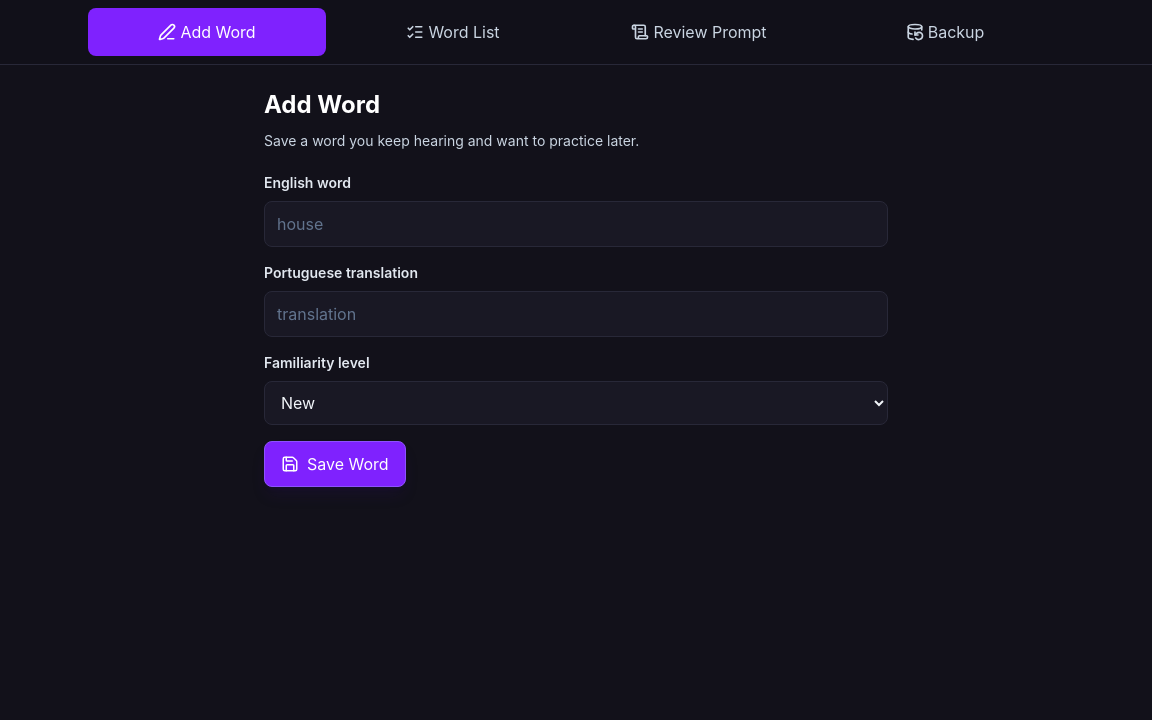
it: WordCatcher app › marks a word as learned and moves it back to review
Type "shadow" into the field labelled "English word" at (576, 224), box [264,201,888,247]
Type "dark shape" into the field labelled "Portuguese translation" at (576, 314), box [264,291,888,337]
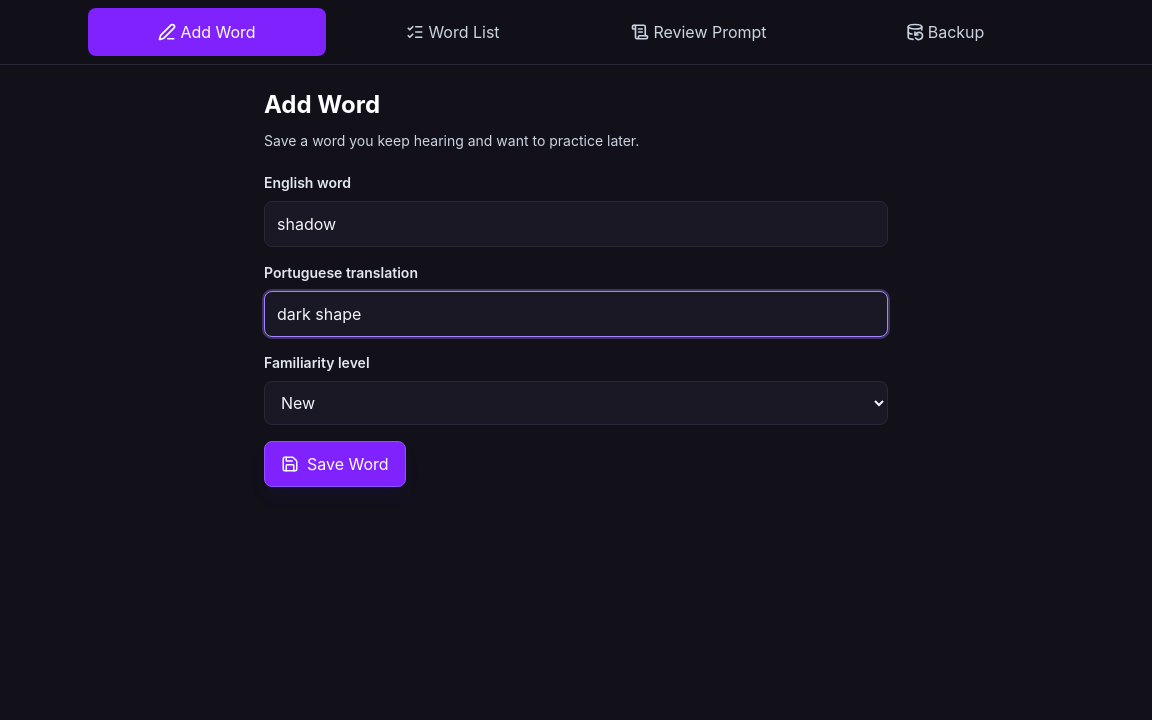
Select "New" in the dropdown labelled "Familiarity level" at (576, 403), box [264,381,888,425]
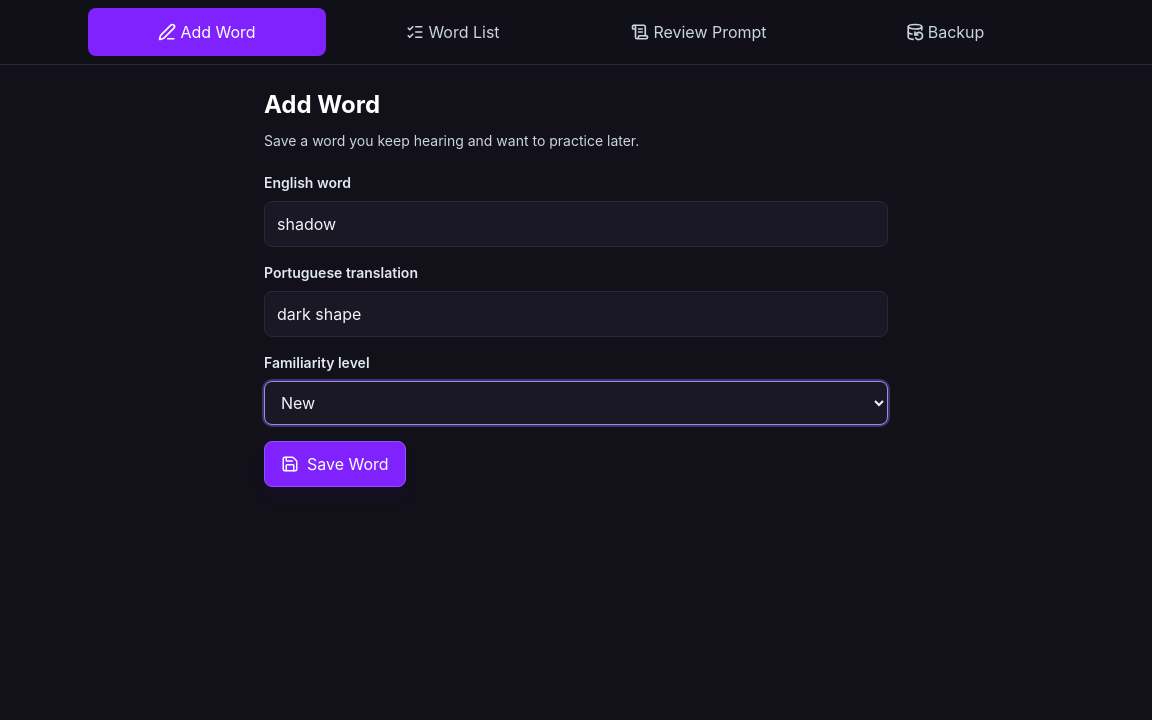
Click the button "Save Word" at (335, 464), box [264,441,406,487]
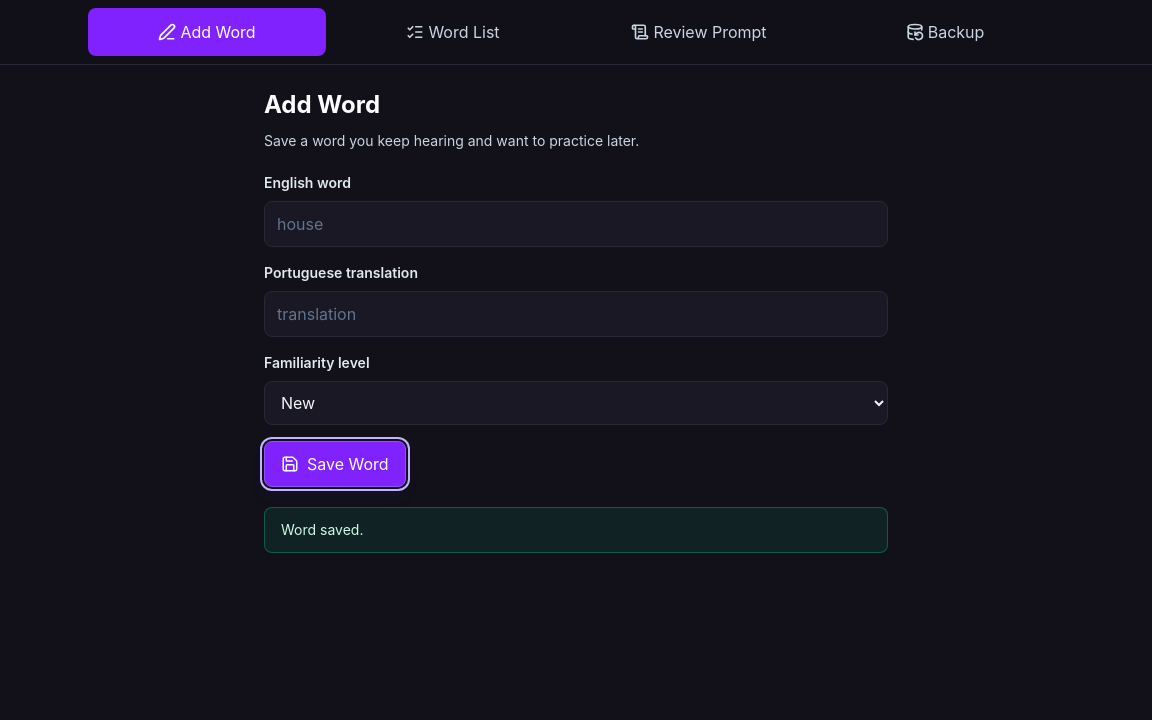
Click the button "Word List" at (453, 32), box [334,8,572,56]
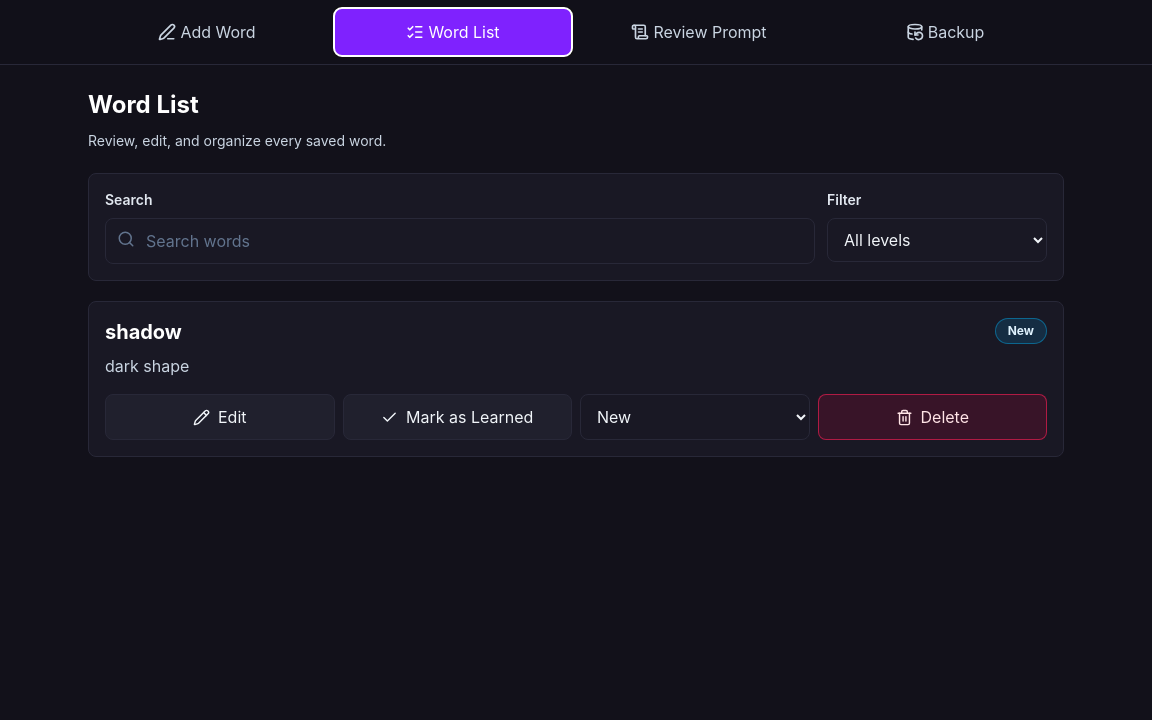
Click the button "Mark as Learned" at (457, 417), box [342,394,572,440]
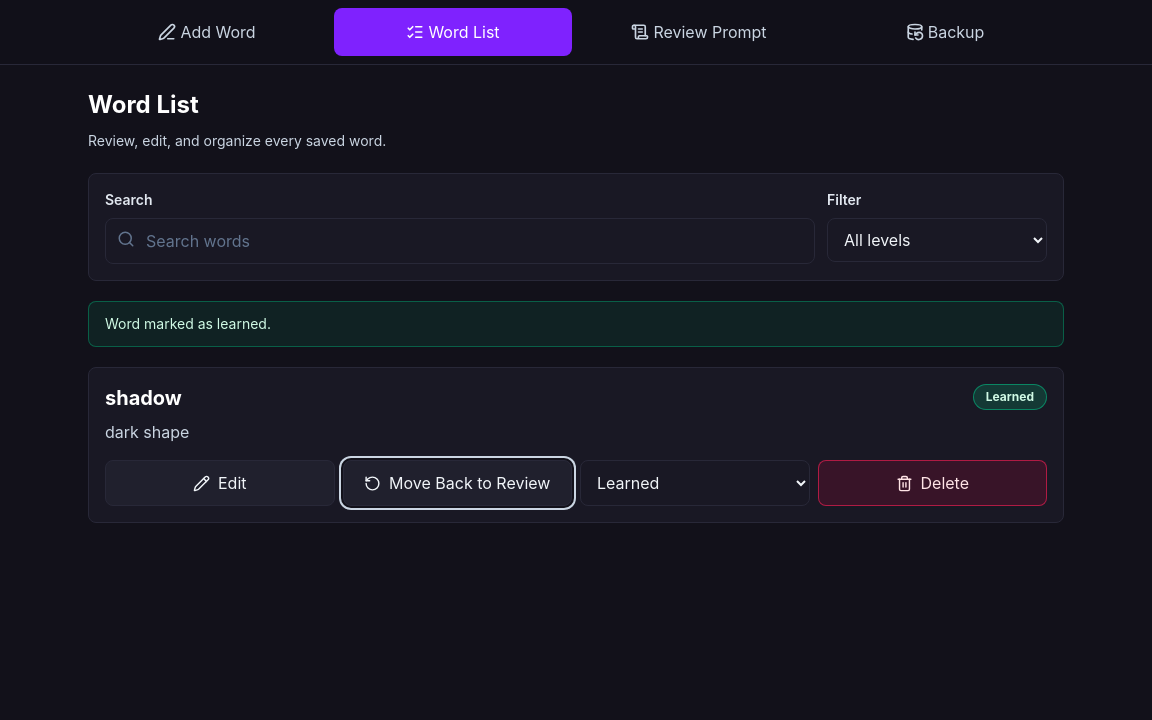
Result: the text "Word marked as learned." is shown at [88,301,1064,347]
Result: the button "Move Back to Review" is shown
Click the button "Move Back to Review" at (457, 483), box [342,460,572,506]
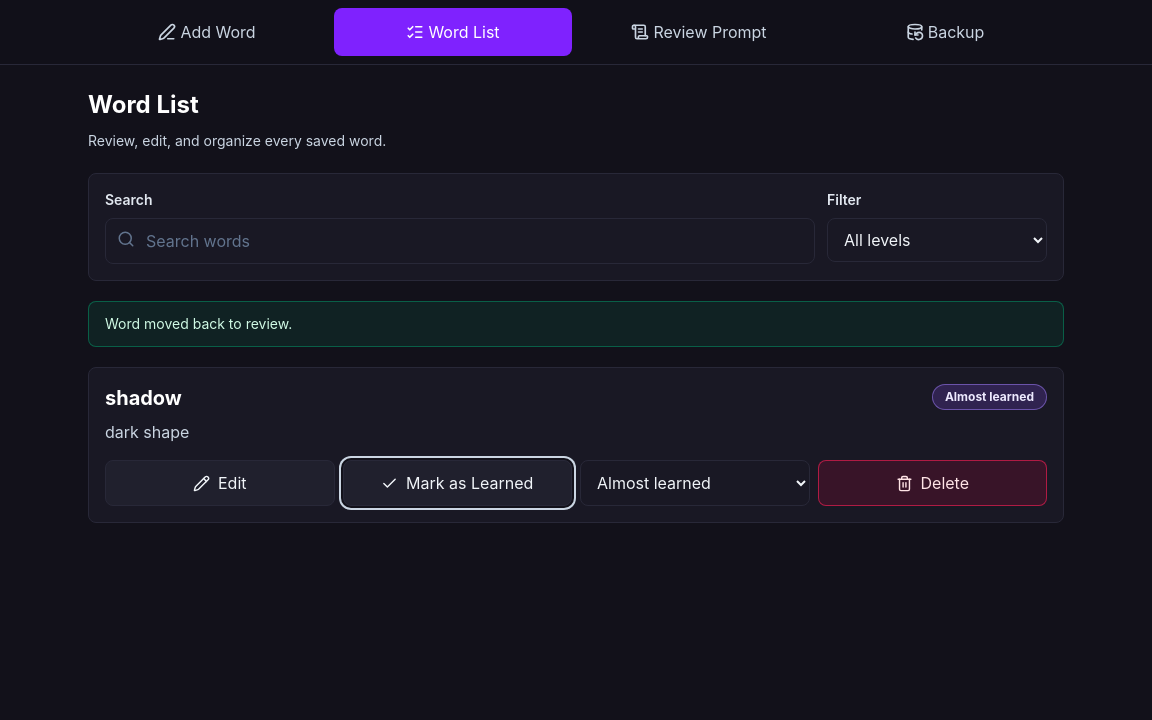
Result: the text "Word moved back to review." is shown at [88,301,1064,347]
Result: the dropdown named "Change familiarity for shadow" shows "Almost learned" at [580,460,810,506]
